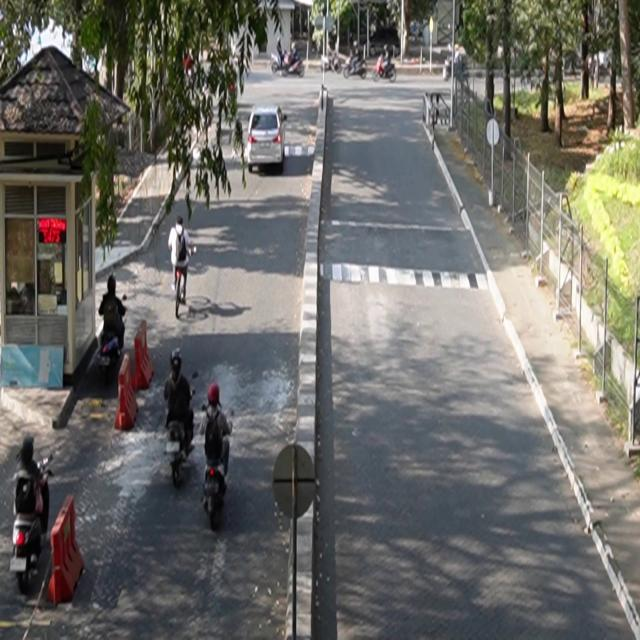car: (248, 105, 288, 175)
